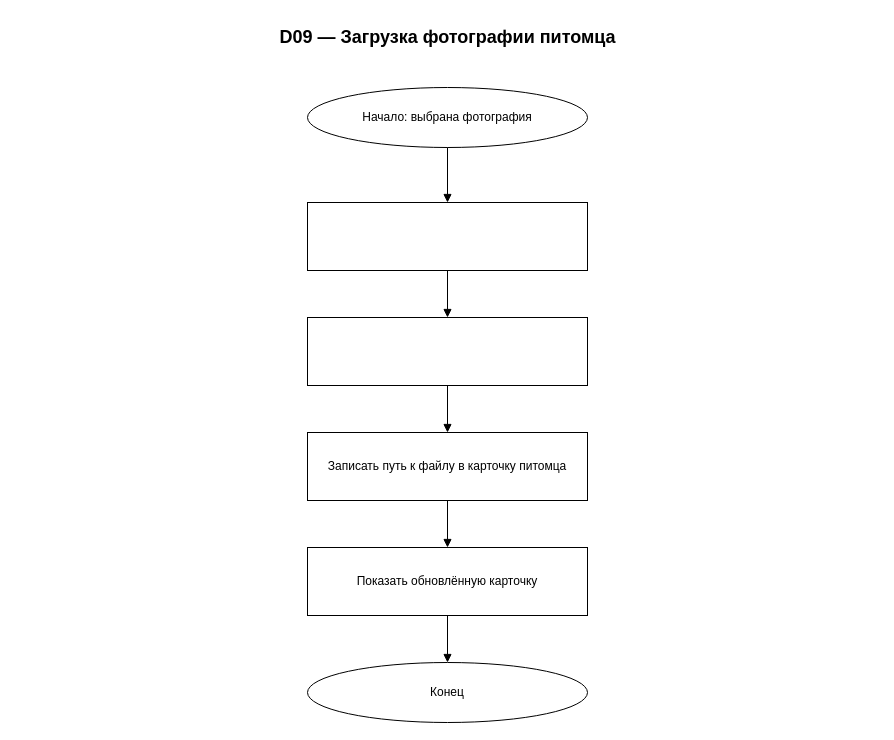
The diagram is 894 pixels wide and 740 high, and some of its shapes have lost their labels. Each missing label, with the centre of its shape:
"Проверить формат и размер файла" belongs at point (447, 236).
"Сохранить фотографию в папку проекта" belongs at point (447, 351).
